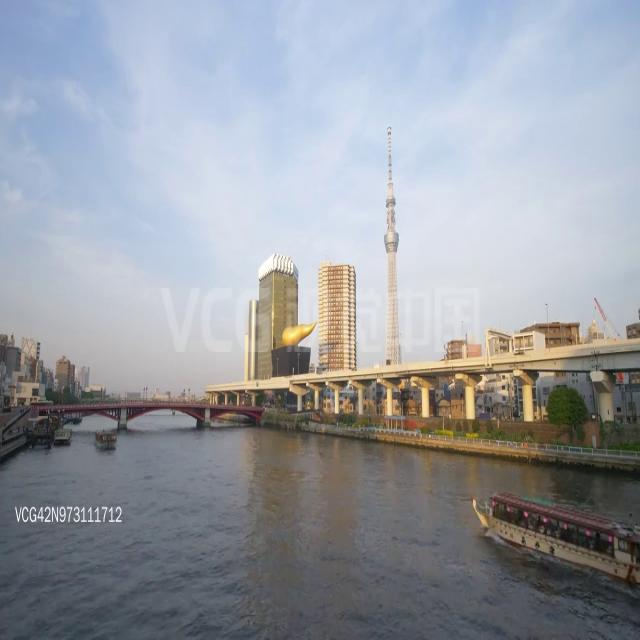passenger ship: (469, 484, 640, 589), (93, 422, 118, 456), (54, 426, 74, 448)
